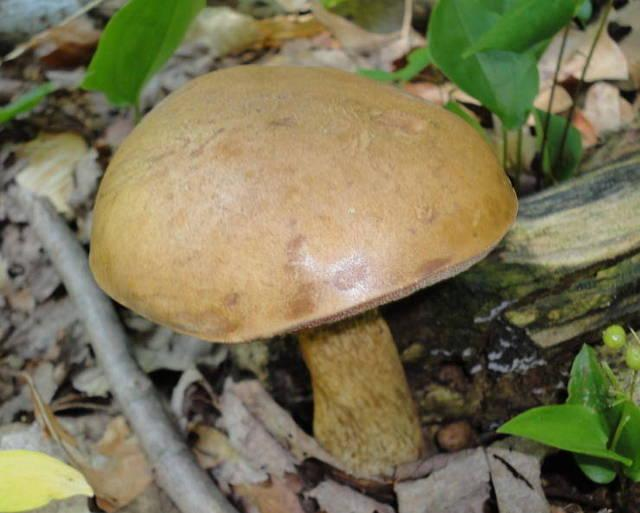poisonous_mushroom: (86, 61, 520, 483)
